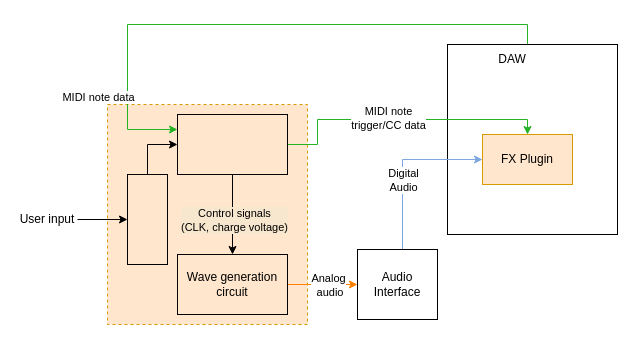
This 635x342 diagram has some shape labels left out. The centre of each missing label's shape, as x and y in pixels:
Hardware UI: (x=147, y=219)
Microcontroller: (x=232, y=144)
